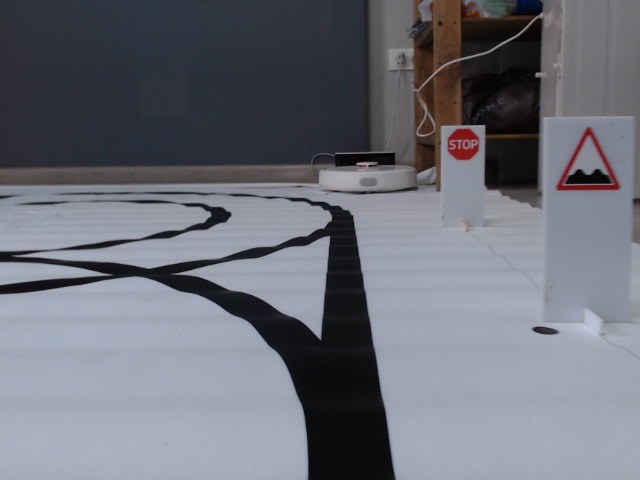Nerov: (550, 126, 624, 194)
Stop: (446, 129, 480, 160)
